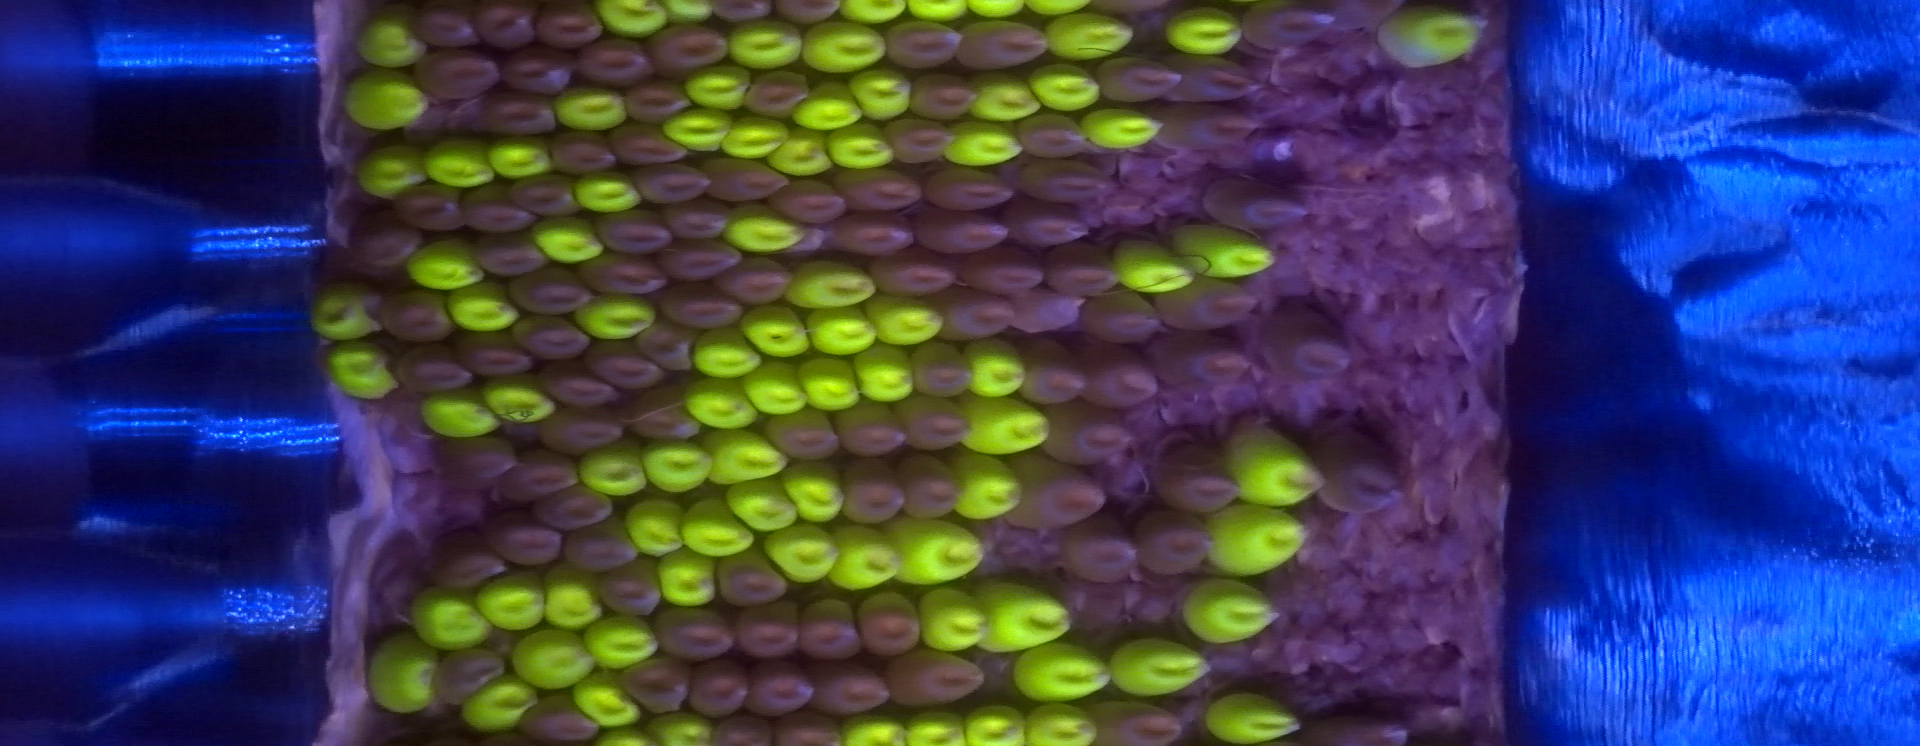fluorescent: (1221, 421, 1322, 506), (1200, 503, 1305, 578), (973, 581, 1070, 654), (876, 517, 984, 581), (1180, 578, 1282, 642), (1172, 224, 1276, 281), (1382, 9, 1477, 69), (364, 637, 441, 709), (507, 625, 591, 690), (1013, 650, 1112, 703), (958, 394, 1051, 450), (1116, 639, 1209, 693), (1199, 695, 1300, 744), (704, 426, 789, 485), (947, 453, 1020, 519), (828, 522, 898, 590), (1044, 11, 1131, 65), (410, 587, 489, 646), (309, 281, 384, 338), (1113, 238, 1190, 294), (760, 528, 836, 584), (779, 263, 876, 307), (326, 337, 397, 397), (571, 293, 658, 342), (918, 588, 986, 650), (796, 347, 860, 412), (804, 20, 883, 72), (680, 495, 751, 552), (405, 239, 486, 289), (778, 461, 842, 522), (724, 479, 800, 530), (418, 390, 497, 439), (541, 568, 604, 630), (850, 343, 913, 403), (808, 303, 873, 361), (476, 570, 547, 622), (585, 615, 658, 666), (349, 76, 422, 126), (351, 17, 426, 66), (446, 281, 520, 330), (463, 674, 529, 729), (688, 328, 760, 379), (737, 306, 809, 356), (1164, 9, 1240, 56), (621, 501, 689, 554), (942, 121, 1021, 167), (961, 336, 1022, 394), (966, 73, 1037, 124), (682, 380, 753, 430), (569, 676, 640, 725), (425, 138, 497, 186), (1027, 65, 1101, 111), (640, 441, 707, 492), (1024, 697, 1096, 744), (866, 300, 942, 344), (481, 381, 557, 424), (577, 446, 647, 492), (527, 217, 600, 261), (849, 66, 910, 119), (552, 86, 629, 127), (1080, 108, 1164, 146), (740, 369, 806, 415), (726, 22, 802, 62), (722, 214, 806, 251), (825, 121, 891, 167), (683, 62, 751, 107), (661, 550, 714, 606), (774, 130, 833, 180), (797, 86, 862, 130), (355, 149, 421, 192), (665, 110, 730, 152), (489, 136, 547, 176), (726, 118, 789, 156), (571, 176, 642, 209), (969, 704, 1029, 741), (596, 2, 662, 36), (648, 710, 709, 744), (909, 710, 966, 745), (842, 712, 905, 742), (834, 2, 905, 24), (654, 1, 713, 21), (910, 2, 964, 21), (1031, 1, 1087, 15), (969, 2, 1024, 16)
nonfluorescent: (1262, 301, 1354, 387), (1316, 428, 1403, 516), (1011, 459, 1109, 527), (883, 650, 988, 710), (1153, 440, 1242, 511), (1199, 176, 1310, 230), (1157, 330, 1251, 392), (1138, 506, 1211, 579), (1243, 1, 1340, 53), (1063, 521, 1139, 586), (1157, 103, 1258, 152), (647, 20, 729, 78), (1044, 409, 1134, 463), (954, 20, 1048, 70), (1171, 51, 1264, 100), (1018, 156, 1116, 202), (1167, 276, 1251, 330), (867, 251, 956, 301), (1300, 709, 1422, 746), (1018, 339, 1084, 405), (743, 657, 817, 715), (1093, 54, 1180, 103), (1084, 350, 1157, 408), (414, 51, 502, 99), (349, 206, 421, 263), (913, 212, 1010, 255), (853, 590, 918, 654), (811, 659, 889, 712), (579, 36, 655, 89), (883, 17, 960, 70), (659, 608, 736, 660), (840, 461, 904, 524), (921, 167, 1018, 208), (430, 530, 502, 586), (900, 454, 964, 517), (489, 516, 566, 567), (380, 287, 453, 341), (469, 233, 556, 278), (714, 550, 789, 603), (624, 657, 689, 717), (1087, 292, 1160, 345), (624, 388, 697, 442), (583, 337, 659, 387), (509, 267, 590, 314), (736, 601, 800, 660), (684, 657, 749, 714), (958, 251, 1044, 294), (389, 184, 465, 233), (902, 401, 971, 454), (802, 598, 863, 658), (1096, 702, 1179, 746), (910, 343, 973, 401), (430, 436, 514, 479), (839, 168, 920, 212), (392, 344, 470, 390), (910, 70, 977, 122), (722, 258, 795, 307), (583, 254, 665, 296), (590, 209, 670, 254), (413, 1, 482, 51), (535, 1, 606, 50), (1042, 250, 1117, 296), (627, 163, 710, 205), (564, 526, 643, 570), (596, 563, 665, 614), (500, 50, 576, 96), (775, 176, 845, 225), (538, 364, 620, 405), (1009, 205, 1093, 245), (838, 405, 904, 457), (531, 488, 615, 528), (658, 289, 743, 328), (742, 70, 804, 122), (887, 116, 956, 163), (709, 159, 782, 203), (942, 294, 1015, 338), (437, 647, 503, 696), (829, 214, 911, 254), (659, 243, 740, 282), (542, 410, 623, 450), (459, 185, 527, 232), (770, 412, 838, 458), (1014, 290, 1082, 334), (612, 126, 684, 168), (527, 698, 602, 737), (1016, 113, 1084, 157), (640, 322, 698, 374), (617, 83, 692, 122), (518, 316, 590, 356), (464, 333, 531, 376), (507, 456, 580, 495), (551, 130, 617, 173), (478, 1, 534, 51), (769, 710, 849, 746), (485, 91, 556, 130), (511, 176, 579, 216), (665, 205, 729, 241), (713, 712, 771, 746)
